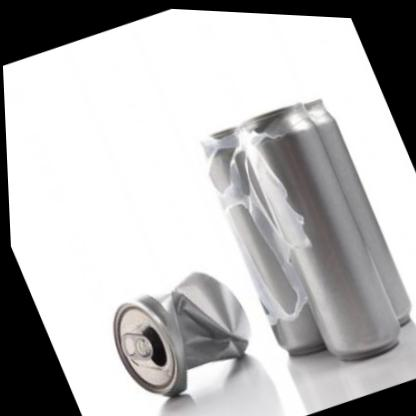metal: (239, 100, 408, 359), (204, 113, 324, 354), (320, 113, 409, 324), (114, 273, 249, 395)
